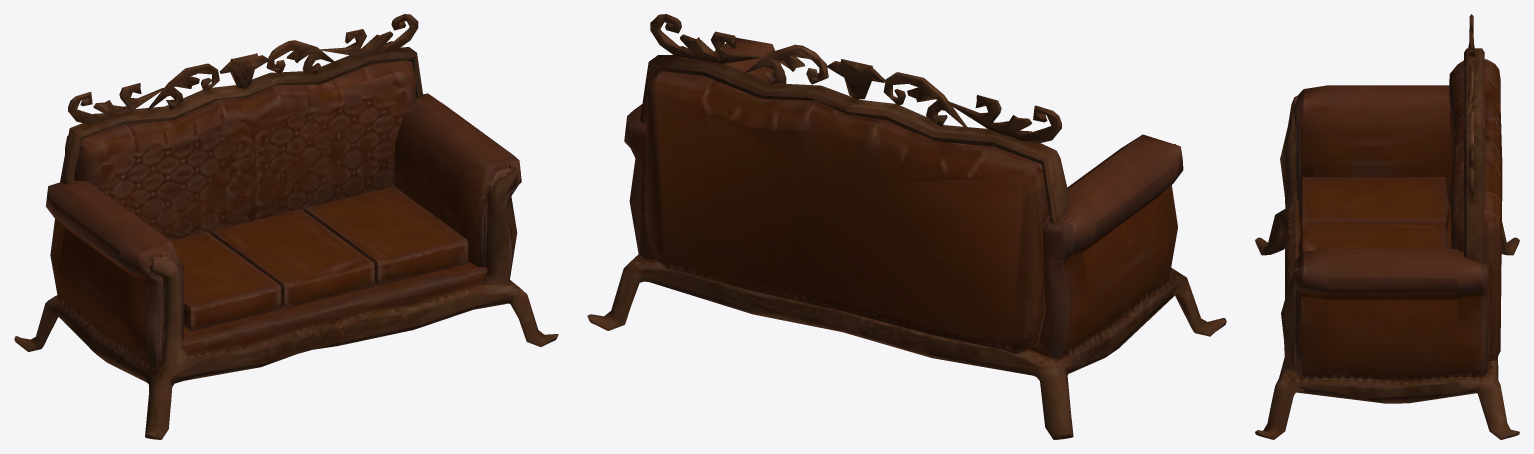
File: sofa.glb
The picture shows the model from 3 angles, left to right: view 1: azimuth 30°, elevation 25°; view 2: azimuth 150°, elevation 25°; view 3: azimuth 270°, elevation 25°; orthographic projection. The views are drawn at different scales.
Parts seen in each view (by area): view 1: europe_style_sofa_low__0; view 2: europe_style_sofa_low__0; view 3: europe_style_sofa_low__0.
Boxes of the visible parts, box(x1,y1,x2,y2) form: europe_style_sofa_low__0: box(14, 14, 558, 439); europe_style_sofa_low__0: box(587, 14, 1226, 439); europe_style_sofa_low__0: box(1255, 14, 1519, 439).
Size of the model in its own units: 1218 by 739 by 696.
Materials: 1 (1 with a texture image).
